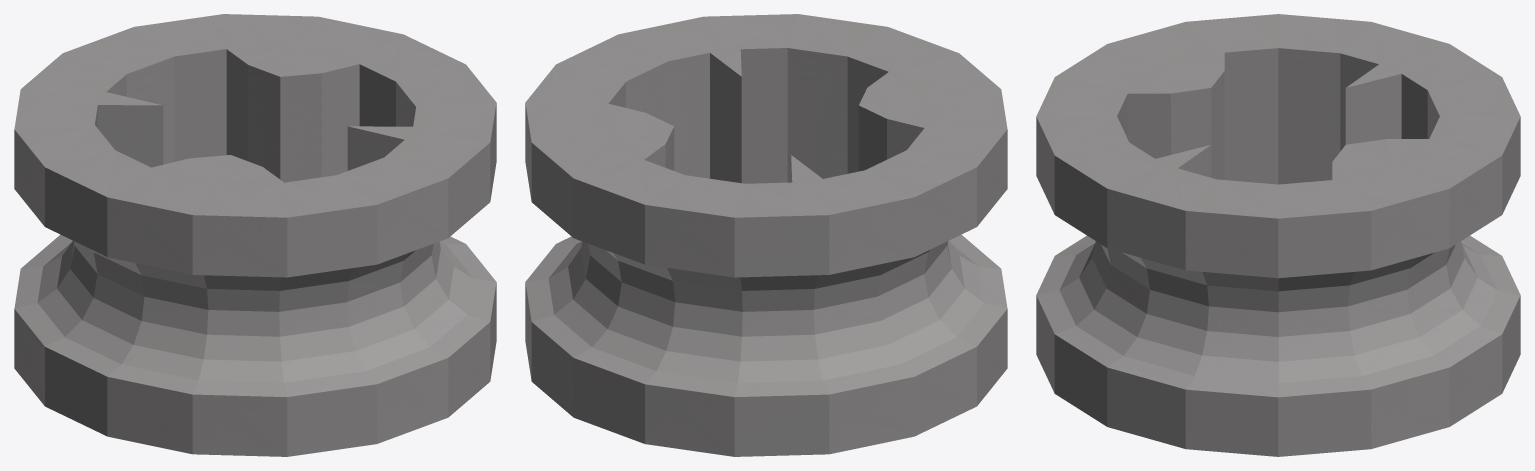
3 views of the same model, side by side, from view 1: azimuth 30°, elevation 25°; view 2: azimuth 150°, elevation 25°; view 3: azimuth 270°, elevation 25° (orthographic).
Visible parts, largest first — view 1: node; view 2: node; view 3: node.
Part boxes in pixels (<box>): node: <box>14,14,496,456</box>; node: <box>525,14,1007,456</box>; node: <box>1036,14,1520,456</box>.
Size of the model in its own units: 17.5 by 9.5 by 17.5.
1 material, 1 textured.
